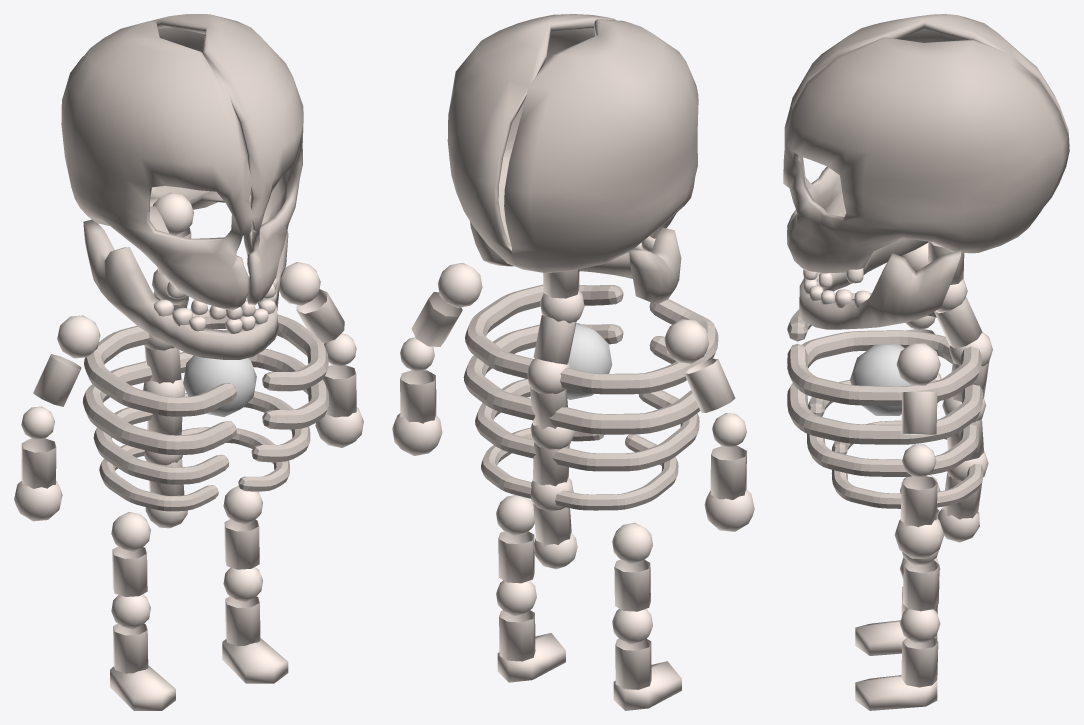
Rendered from Skeleton Enemy.fbx.
The picture shows the model from 3 angles, left to right: view 1: azimuth 30°, elevation 25°; view 2: azimuth 150°, elevation 25°; view 3: azimuth 270°, elevation 25°; orthographic projection. The views are drawn at different scales.
Visible parts, largest first — view 1: Plane.163, Cube.090, Plane.181, Plane.182, Plane.183, Plane.184, Icosphere.069, Cube.091, Cube.092, Cylinder.091, Cylinder.087, Cylinder.085 (+20 smaller); view 2: Plane.163, Plane.181, Plane.182, Plane.183, Plane.184, Cube.090, Cube.091, Cylinder.091, Cube.092, Icosphere.069, Cylinder.089, Cylinder.092 (+25 smaller); view 3: Plane.163, Cube.090, Plane.182, Plane.181, Plane.183, Plane.184, Cube.091, Icosphere.069, Cylinder.089, Cylinder.085, Cylinder.086, Cylinder.090 (+13 smaller).
Part boxes in pixels (x1,y1,x2,y2): Plane.163: (61,14,303,311); Cube.090: (83,219,288,359); Plane.181: (84,309,328,416); Plane.182: (82,348,329,454); Plane.183: (93,391,310,484); Plane.184: (99,427,289,511); Icosphere.069: (183,355,256,416); Cube.091: (222,638,288,683); Cube.092: (110,665,175,710); Cylinder.091: (21,438,56,488); Cylinder.087: (112,546,147,596); Cylinder.085: (224,519,259,569); Plane.163: (447,14,698,273); Plane.181: (465,284,718,394); Plane.182: (463,324,700,434); Plane.183: (475,378,699,471); Plane.184: (481,427,678,510); Cube.090: (470,221,681,304); Cube.091: (497,633,565,682); Cylinder.091: (710,446,746,499); Cube.092: (613,661,681,710); Icosphere.069: (566,323,612,399); Cylinder.089: (400,370,436,423); Cylinder.092: (684,358,735,412); Plane.163: (783,14,1069,273); Cube.090: (799,238,961,329); Plane.182: (787,330,982,444); Plane.181: (787,293,981,405); Plane.183: (807,379,978,476); Plane.184: (831,420,983,508); Cube.091: (855,675,937,710); Icosphere.069: (850,344,910,415); Cylinder.089: (900,476,937,527); Cylinder.085: (902,560,939,611); Cylinder.086: (901,638,938,687); Cylinder.090: (901,391,937,434).
Bounding box in the file's own units: 226 × 405 × 164.
